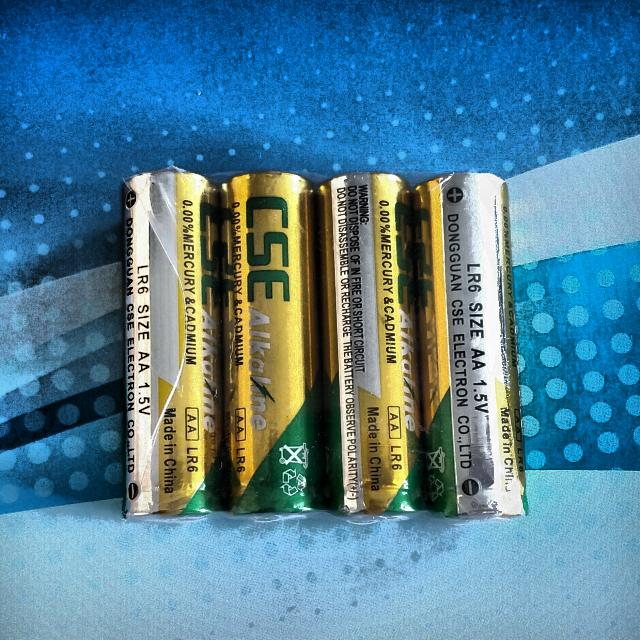Non-Valuable Waste - Batteries: (414, 173, 525, 515), (318, 173, 424, 513), (224, 173, 325, 513), (124, 169, 222, 515)
